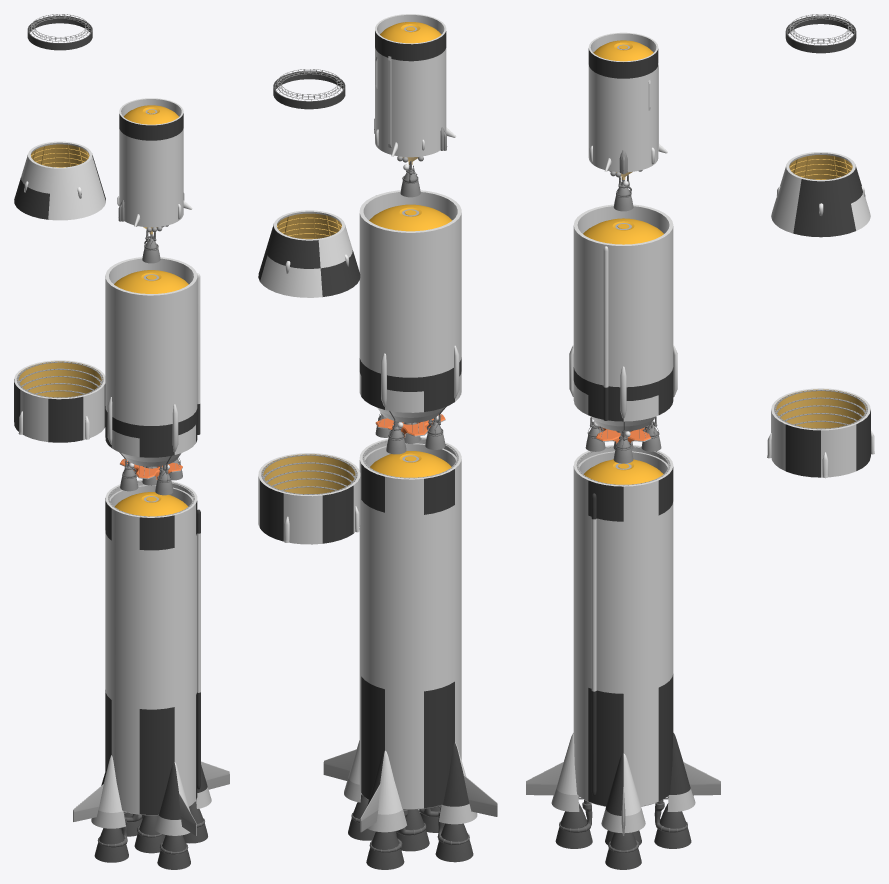
File: saturn-v.glb
3 renders of one model, left to right at view 1: azimuth 30°, elevation 25°; view 2: azimuth 150°, elevation 25°; view 3: azimuth 270°, elevation 25°, orthographic. The views are drawn at different scales.
Parts seen in each view (by area): view 1: S-IC, S-II, S-IVB, Interstage, S-II_Top, Instrument_Unit, F1.004, F1.003, F1, F1.001, J2.005; view 2: S-IC, S-II, S-IVB, Interstage, S-II_Top, Instrument_Unit, F1.004, F1.002, F1, F1.001, J2.003, J2.002 (+1 smaller); view 3: S-IC, S-II, S-IVB, Interstage, S-II_Top, Instrument_Unit, F1.003, F1.002, F1.001.
Boxes of the visible parts, x1,y1,x2,y2 form: S-IC: [73, 479, 229, 835]; S-II: [105, 257, 200, 480]; S-IVB: [117, 98, 192, 234]; Interstage: [14, 360, 105, 442]; S-II_Top: [14, 141, 105, 220]; Instrument_Unit: [27, 14, 92, 50]; F1.004: [94, 811, 128, 862]; F1.003: [157, 835, 190, 869]; F1: [134, 815, 165, 853]; F1.001: [183, 801, 207, 843]; J2.005: [142, 230, 160, 263]; S-IC: [323, 437, 497, 832]; S-II: [359, 190, 461, 437]; S-IVB: [374, 14, 456, 164]; Interstage: [258, 453, 360, 544]; S-II_Top: [258, 210, 360, 297]; Instrument_Unit: [273, 69, 345, 109]; F1.004: [435, 805, 473, 862]; F1.002: [366, 831, 404, 869]; F1: [396, 809, 429, 851]; F1.001: [348, 794, 375, 840]; J2.003: [425, 415, 445, 449]; J2.002: [386, 420, 406, 454]; S-IC: [526, 445, 720, 835]; S-II: [569, 204, 677, 444]; S-IVB: [588, 32, 667, 179]; Interstage: [767, 388, 874, 478]; S-II_Top: [771, 152, 870, 237]; Instrument_Unit: [785, 14, 856, 53]; F1.003: [555, 796, 592, 848]; F1.002: [654, 796, 691, 848]; F1.001: [605, 832, 641, 869].
Bounding box in the file's own units: 19.76 × 90.99 × 35.34.
4 materials, 4 textured.
